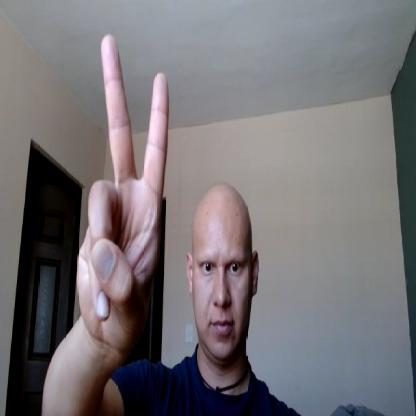V: (79, 37, 170, 356)
